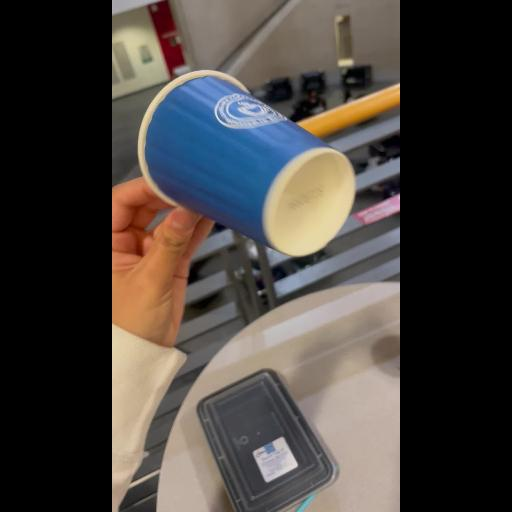lp_paper_cup: (134, 65, 356, 259)
